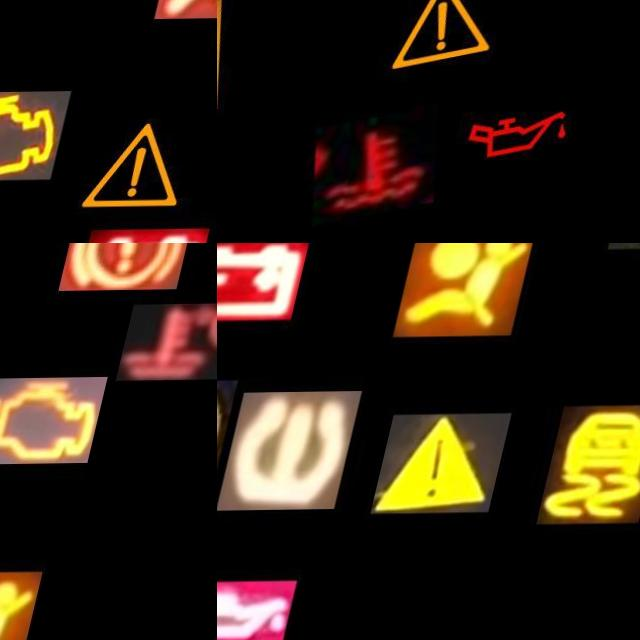Central Warning lamp: (81, 106, 217, 226), (379, 0, 543, 90), (395, 415, 531, 515)
Engine cooling system: (323, 106, 481, 228), (125, 304, 217, 382)
